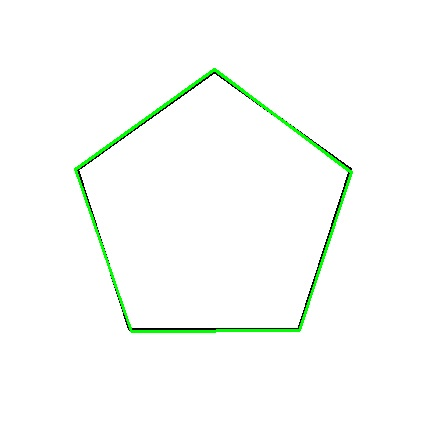line_segment: (75, 69, 352, 332)
